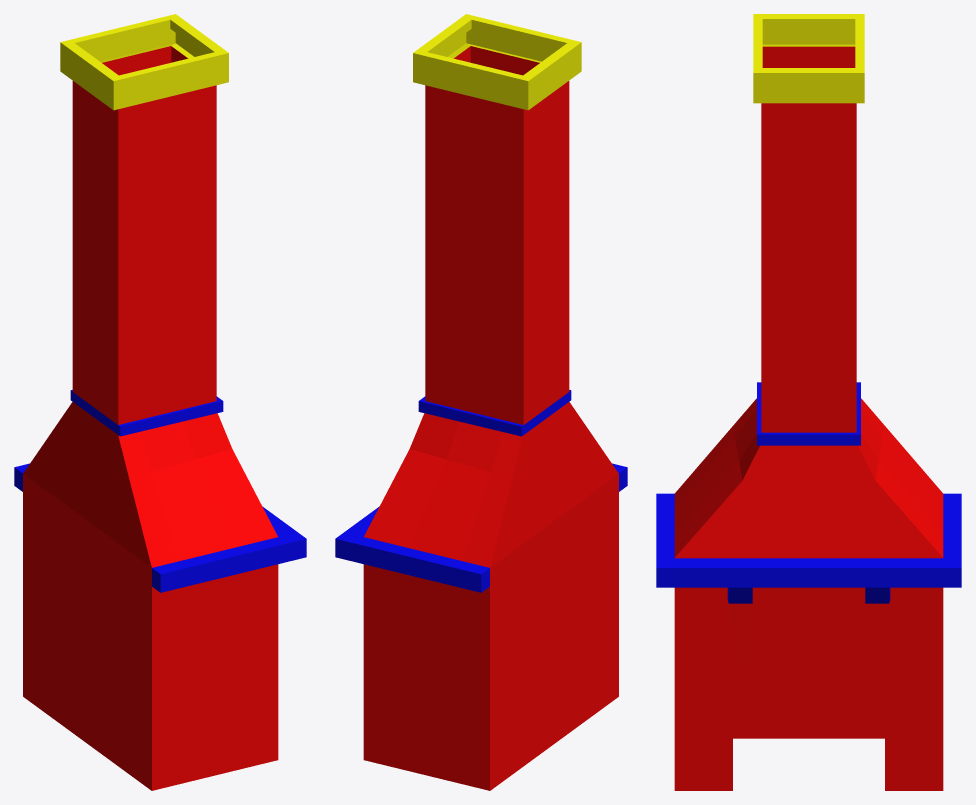
File: fireplace.fbx
The picture shows the model from 3 angles, left to right: view 1: azimuth 30°, elevation 25°; view 2: azimuth 150°, elevation 25°; view 3: azimuth 270°, elevation 25°; orthographic projection. The views are drawn at different scales.
Visible parts, largest first — view 1: fireplace_main, fireplace_chimney, fireplace_hood, fireplace_chimney_top, fireplace_frame, fireplace_frame_upper; view 2: fireplace_main, fireplace_chimney, fireplace_hood, fireplace_chimney_top, fireplace_frame, fireplace_frame_upper; view 3: fireplace_main, fireplace_chimney, fireplace_hood, fireplace_frame, fireplace_chimney_top, fireplace_frame_upper, fireplace_sustainers.
Part boxes in pixels (x1,y1,x2,y2): fireplace_main: (23,474,278,790); fireplace_chimney: (72,46,216,424); fireplace_hood: (23,402,277,567); fireplace_chimney_top: (60,14,228,110); fireplace_frame: (14,463,306,592); fireplace_frame_upper: (70,390,223,436); fireplace_main: (363,474,618,790); fireplace_chimney: (425,46,569,424); fireplace_hood: (364,402,618,567); fireplace_chimney_top: (413,14,581,110); fireplace_frame: (335,463,627,592); fireplace_frame_upper: (418,390,571,436); fireplace_main: (674,587,943,790); fireplace_chimney: (761,46,856,432); fireplace_hood: (674,398,943,558); fireplace_frame: (656,493,961,587); fireplace_chimney_top: (753,14,864,103); fireplace_frame_upper: (757,382,860,445); fireplace_sustainers: (727,587,890,603).
Bounding box in the file's own units: 130 × 578 × 225.
